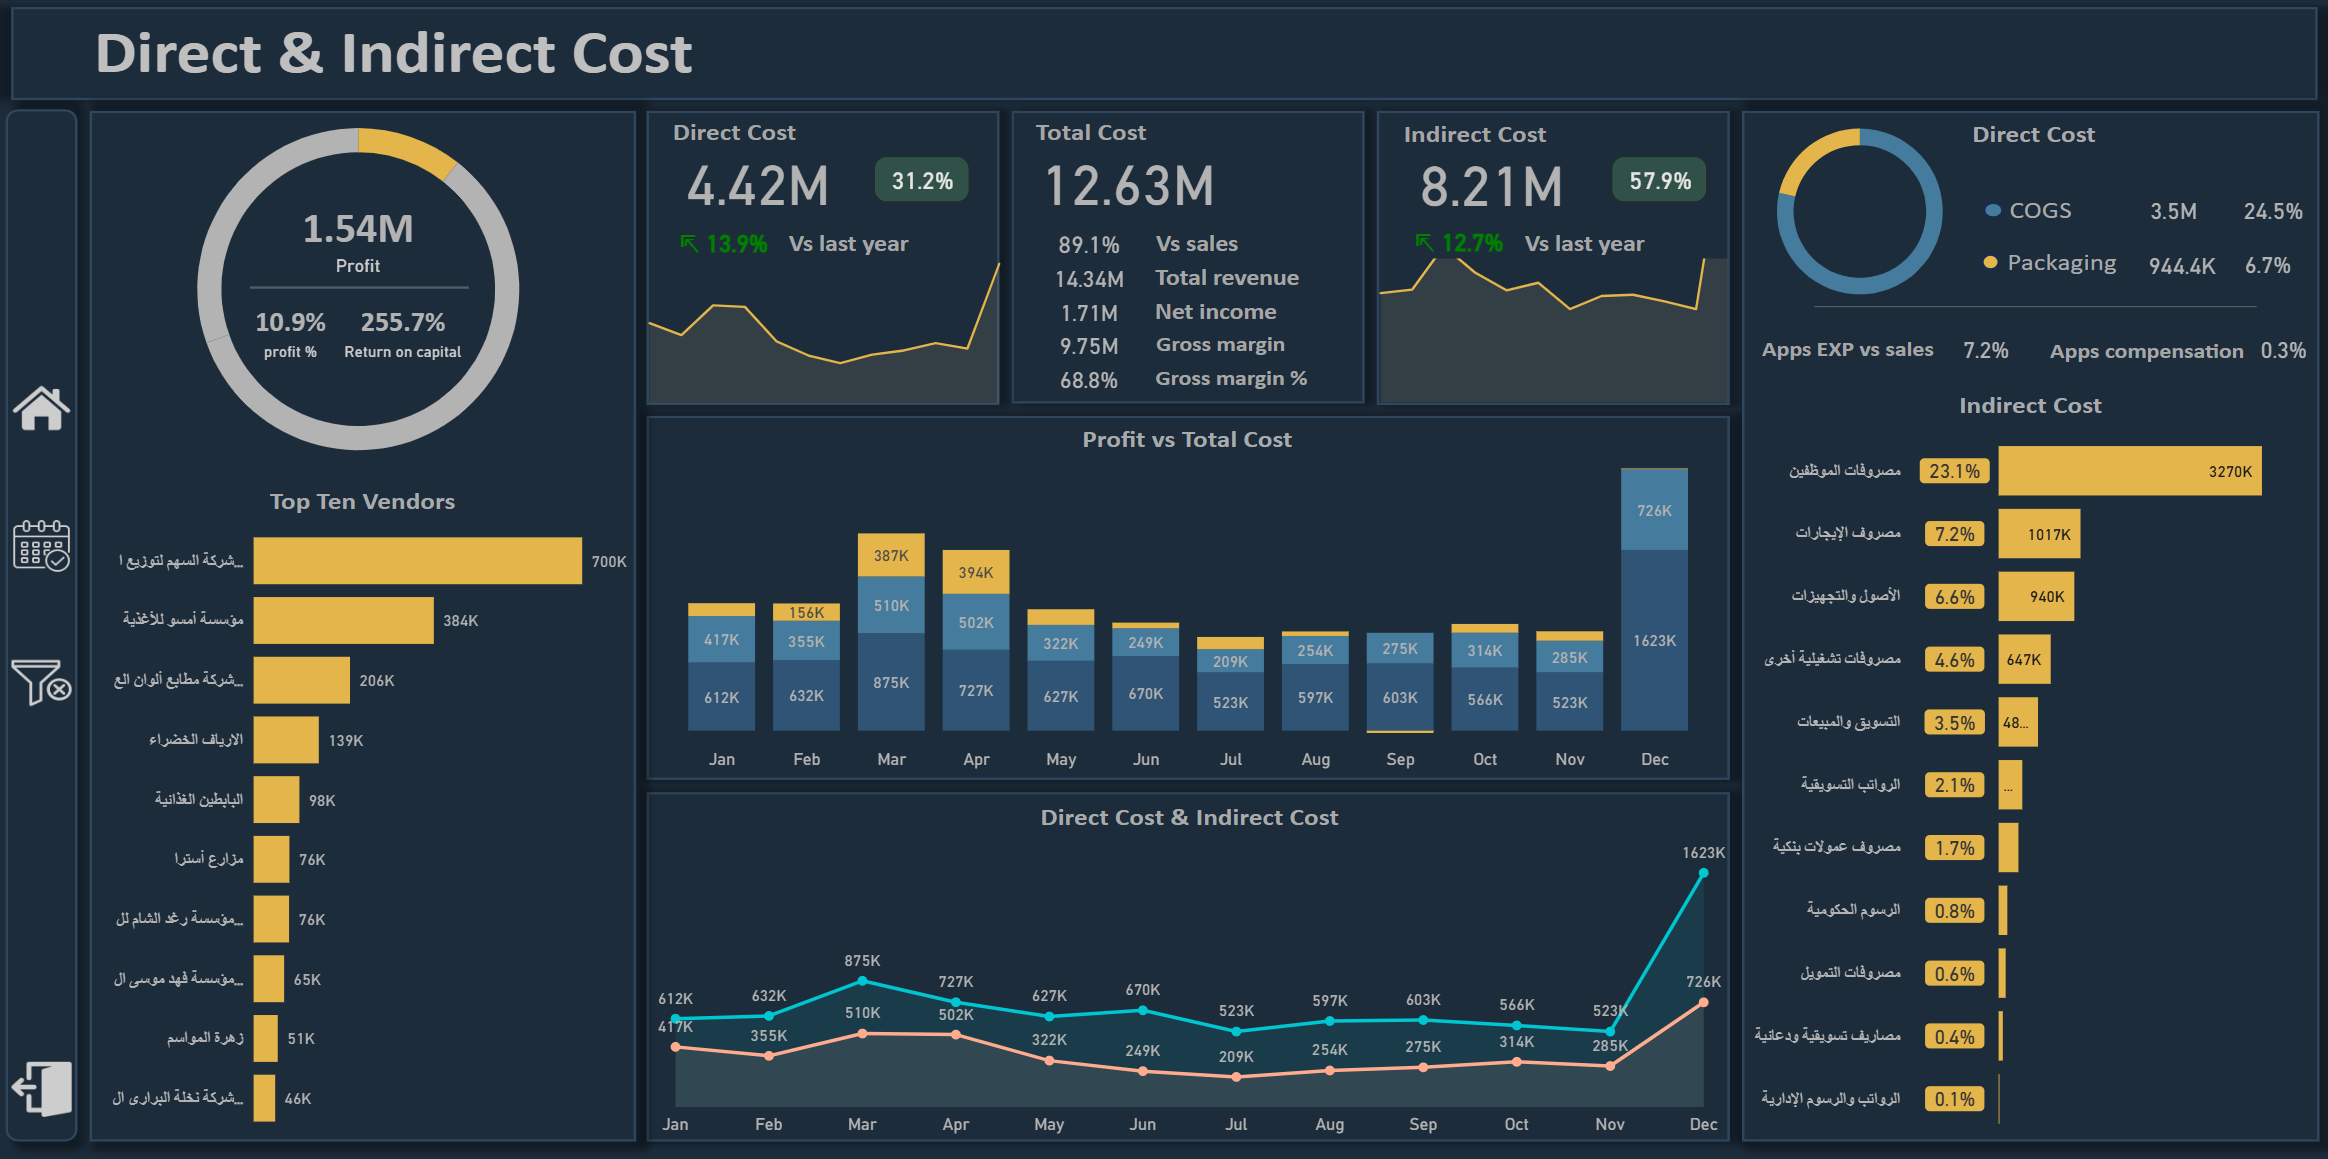

What the dashboard file says about the page in this screenshot:
{"tool":"powerbi","page":{"name":"Direct & Indirect","canvas":[2000,1000],"ordinal":4},"visuals":[{"type":"shape","box":[0,0,1985,982.5],"z":0},{"type":"barChart","title":"INdierct cost","fields":{"Y":["A COST.dummy","A costs.INdierct cost"],"Category":["Indirect cost.desc"]},"box":[1500,351.2,489.6,641.4],"z":1000},{"type":"card","fields":{"Values":["A MEASURE.direct cost"]},"box":[553,122.1,200.7,69.1],"z":2000},{"type":"card","fields":{"Values":["A COST.INdirect cost without diff price"]},"box":[1179.5,122.6,202.9,69.1],"z":3000},{"type":"card","fields":{"Values":["A MEASURE.total cost"]},"box":[869.6,122,200.7,69.1],"z":4000},{"type":"donutChart","fields":{"Category":["Accounts.ACC"],"Y":["A costs.direct cost"]},"box":[1471.2,90.9,250.5,187.4],"z":5000},{"type":"columnChart","title":"INdierct cost, direct cost ","fields":{"Y":["A costs.INdierct cost","A costs.direct cost","A MEASURE.Profit"],"Category":["DATE.month 2"]},"box":[559.3,390.8,924.5,279],"z":6000},{"type":"donutChart","fields":{"Y":["A SALES.Profit","A COST.INdierct cost","A COST.direct cost"]},"box":[78,73.6,466,354.5],"z":7000},{"type":"areaChart","fields":{"Y":["A costs.direct cost"],"Category":["DATE.Date.Variation.Date Hierarchy.Month"]},"box":[544,202.9,331,151.6],"z":8000},{"type":"areaChart","fields":{"Category":["DATE.Date.Variation.Date Hierarchy.Month"],"Y":["A costs.INdierct cost"]},"box":[1170.3,211.8,328.4,142.3],"z":9000},{"type":"card","fields":{"Values":["A costs.Direct cost %"]},"box":[753.6,137.7,80.3,37.9],"z":10000},{"type":"card","fields":{"Values":["A costs.Indirect cost %"]},"box":[1384.6,138.2,80.3,37.9],"z":11000},{"type":"clusteredBarChart","title":"Top ten vendors","fields":{"Category":["Direct cost.Description"],"Y":["A COST.direct salles vendors"]},"box":[84.7,430.3,461.5,559.6],"z":12000},{"type":"card","fields":{"Values":["A costs.Direct cost %"]},"box":[1910.9,164.4,78.9,39.4],"z":13000},{"type":"card","fields":{"Values":["A costs.Direct cost %"]},"box":[1906.8,211.2,77.9,39],"z":14000},{"type":"card","fields":{"Values":["A costs.direct cost"]},"box":[1832.3,211.3,79.1,39.6],"z":15000},{"type":"card","fields":{"Values":["A costs.direct cost"]},"box":[1823.7,164.7,81.6,39],"z":16000},{"type":"card","fields":{"Values":["A costs.Direct cost SP last year %"]},"box":[568.5,192.5,111,38.4],"z":17000},{"type":"card","fields":{"Values":["A costs.Same Period last year inDirect cost %"]},"box":[1197.3,192.5,111.6,37.7],"z":18000},{"type":"card","fields":{"Values":["A costs.total cost vs sales"]},"box":[890,198.5,93.3,27.6],"z":19000},{"type":"card","fields":{"Values":["A COST.Direct cost vs sales"]},"box":[890,285.3,93,27],"z":20000},{"type":"card","fields":{"Values":["A SALES.Total sales"]},"box":[890,228,92.9,27.1],"z":21000},{"type":"shape","box":[218.5,243,187.3,13.4],"z":22000},{"type":"card","fields":{"Values":["A SALES.total income"]},"box":[890,256.9,92.9,26.5],"z":23000},{"type":"card","fields":{"Values":["A COST.Gross margin %"]},"box":[890,314.2,92.5,26.9],"z":23500},{"type":"card","fields":{"Values":["A SALES.Profit"]},"box":[211.8,167.2,198.4,78],"z":24000},{"type":"card","fields":{"Values":["A MEASURE.net profit %"]},"box":[182.8,247,140.5,78],"z":25000},{"type":"card","fields":{"Values":["A COST.revenue"]},"box":[278.7,247,140.5,78],"z":25500},{"type":"actionButton","title":"date open","box":[16.5,451.1,44.9,39.8],"z":32000},{"type":"actionButton","title":"clear filters","box":[16.5,568.2,44.9,36.4],"z":34000},{"type":"actionButton","title":"home","box":[17.8,336.7,44.6,40.1],"z":35000},{"type":"actionButton","title":"navigator button show","box":[21.6,912.4,47.4,46.4],"z":38000},{"type":"card","fields":{"Values":["A COST.item indirect cost vs sales"]},"box":[2514.3,10,344.3,150],"z":40000},{"type":"card","fields":{"Values":["A COST.APPS compensation"]},"box":[1919.2,282,79.5,42.3],"z":41000},{"type":"areaChart","title":"INdierct cost, direct cost ","fields":{"Y":["A MEASURE.INdierct cost","A MEASURE.direct cost"],"Category":["DATE.month 2"]},"box":[546.1,689.5,953.9,292.1],"z":42000},{"type":"card","fields":{"Values":["A COST.Apps exp vs sales"]},"box":[1664.8,282.6,79.1,41.8],"z":43000}]}

Visuals, with their boxes in screenshot pixels (x1, y1, x2, y2), scaled from the page's 2000x1000 canvas onto the 2328x1159 screenshot:
shape: (0,0,2311,1139)
"INdierct cost" barChart: (1746,407,2316,1150)
card - A MEASURE.direct cost: (644,142,877,222)
card - A COST.INdirect cost without diff price: (1373,142,1609,222)
card - A MEASURE.total cost: (1012,141,1246,221)
donutChart - Accounts.ACC x A costs.direct cost: (1712,105,2004,323)
"INdierct cost, direct cost " columnChart: (651,453,1727,776)
donutChart - A SALES.Profit x A COST.INdierct cost: (91,85,633,496)
areaChart - A costs.direct cost x DATE.Date.Variation.Date Hierarchy.Month: (633,235,1018,411)
areaChart - DATE.Date.Variation.Date Hierarchy.Month x A costs.INdierct cost: (1362,245,1744,410)
card - A costs.Direct cost %: (877,160,971,204)
card - A costs.Indirect cost %: (1612,160,1705,204)
"Top ten vendors" clusteredBarChart: (99,499,636,1147)
card - A costs.Direct cost %: (2224,191,2316,236)
card - A costs.Direct cost %: (2220,245,2310,290)
card - A costs.direct cost: (2133,245,2225,291)
card - A costs.direct cost: (2123,191,2218,236)
card - A costs.Direct cost SP last year %: (662,223,791,268)
card - A costs.Same Period last year inDirect cost %: (1394,223,1524,267)
card - A costs.total cost vs sales: (1036,230,1145,262)
card - A COST.Direct cost vs sales: (1036,331,1144,362)
card - A SALES.Total sales: (1036,264,1144,296)
shape: (254,282,472,297)
card - A SALES.total income: (1036,298,1144,328)
card - A COST.Gross margin %: (1036,364,1144,395)
card - A SALES.Profit: (247,194,477,284)
card - A MEASURE.net profit %: (213,286,376,377)
card - A COST.revenue: (324,286,488,377)
"date open" actionButton: (19,523,71,569)
"clear filters" actionButton: (19,659,71,701)
"home" actionButton: (21,390,73,437)
"navigator button show" actionButton: (25,1057,80,1111)
card - A COST.APPS compensation: (2234,327,2326,376)
"INdierct cost, direct cost " areaChart: (636,799,1746,1138)
card - A COST.Apps exp vs sales: (1938,328,2030,376)
